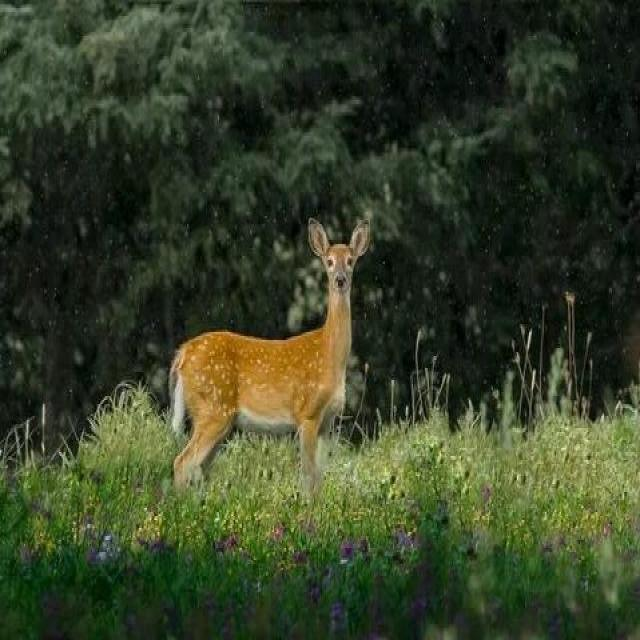deer: (110, 157, 487, 579)
